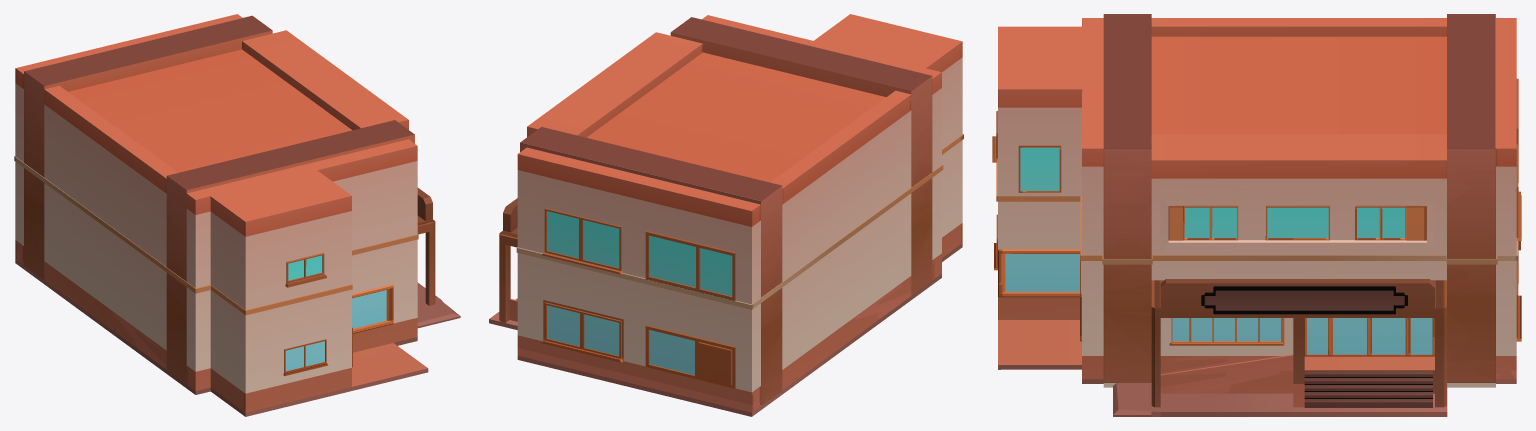
The model's file is Police Station1.fbx.
3 views of the same model, side by side, from view 1: azimuth 30°, elevation 25°; view 2: azimuth 150°, elevation 25°; view 3: azimuth 270°, elevation 25° (orthographic). The views are drawn at different scales.
Visible parts, largest first — view 1: Police station; view 2: Police station; view 3: Police station.
Part boxes in pixels (bbox=[...]): Police station: bbox=[14, 14, 460, 416]; Police station: bbox=[489, 14, 963, 416]; Police station: bbox=[992, 14, 1521, 416].
Bounding box in the file's own units: 3554 × 2418 × 4850.
10 materials, 10 textured.
